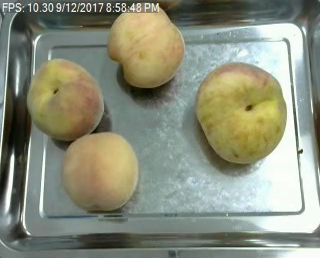Peach: (196, 59, 285, 164), (106, 3, 186, 87), (26, 57, 106, 140), (63, 131, 138, 213)
